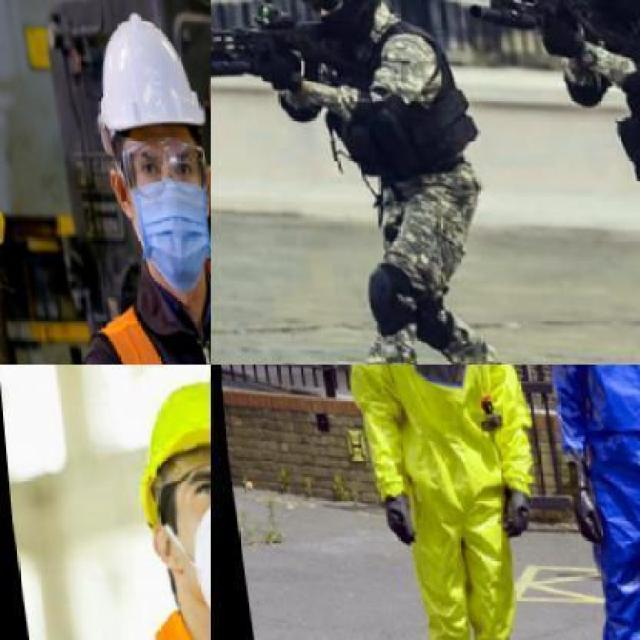Vest: (356, 364, 556, 638), (306, 17, 485, 195), (540, 364, 638, 638), (586, 0, 639, 171)
